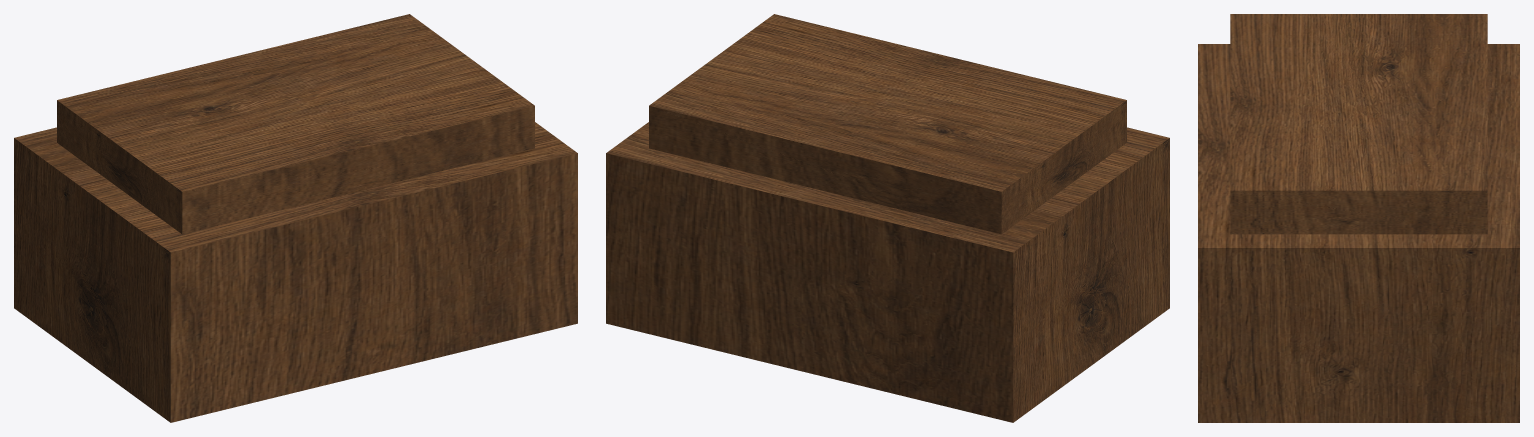
Rendered from JewelryBox.fbx.
The picture shows the model from 3 angles, left to right: view 1: azimuth 30°, elevation 25°; view 2: azimuth 150°, elevation 25°; view 3: azimuth 270°, elevation 25°; orthographic projection. The views are drawn at different scales.
Parts seen in each view (by area): view 1: JewelryBox_Base, JewelryBox_Lid; view 2: JewelryBox_Base, JewelryBox_Lid; view 3: JewelryBox_Base, JewelryBox_Lid.
Part boxes in pixels (x1,y1,x2,y2): JewelryBox_Base: [14, 122, 577, 422]; JewelryBox_Lid: [57, 14, 534, 234]; JewelryBox_Base: [606, 122, 1169, 422]; JewelryBox_Lid: [649, 14, 1126, 234]; JewelryBox_Base: [1198, 44, 1519, 422]; JewelryBox_Lid: [1230, 14, 1487, 234].
Bounding box in the file's own units: 15 × 7.5 × 10.
1 material, 1 textured.
